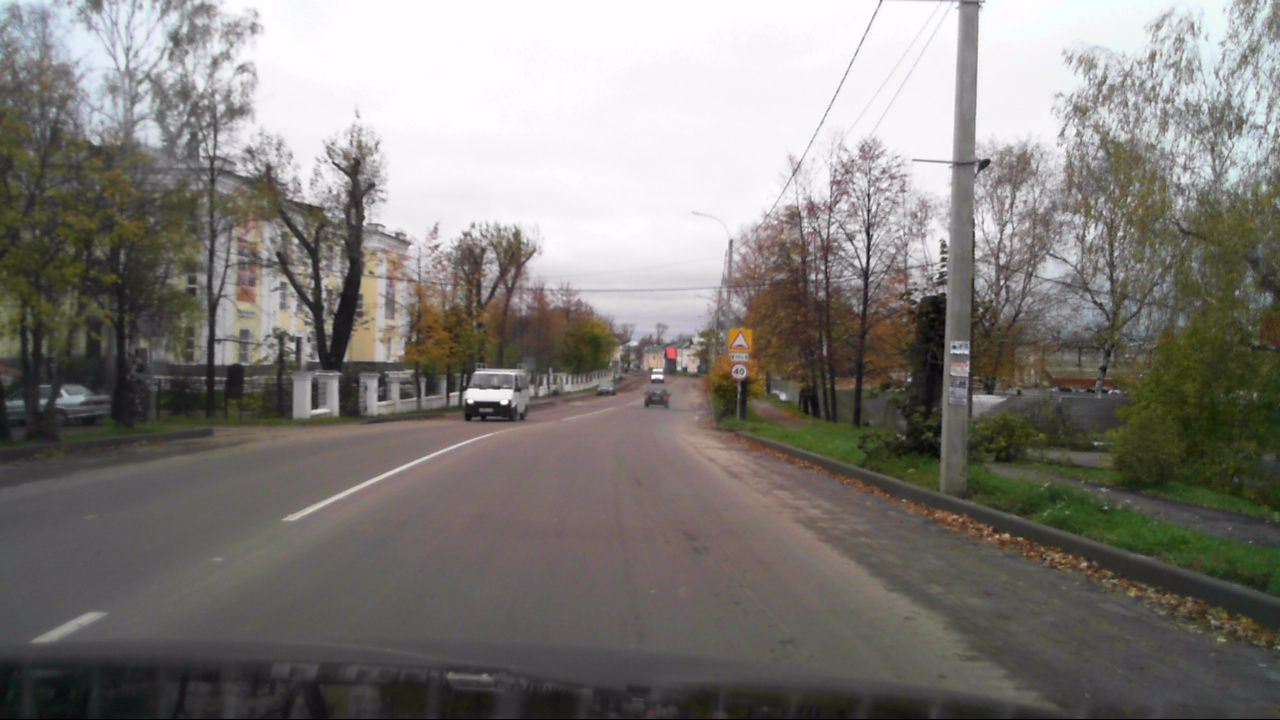speed_warning_40: (731, 364, 747, 380)
